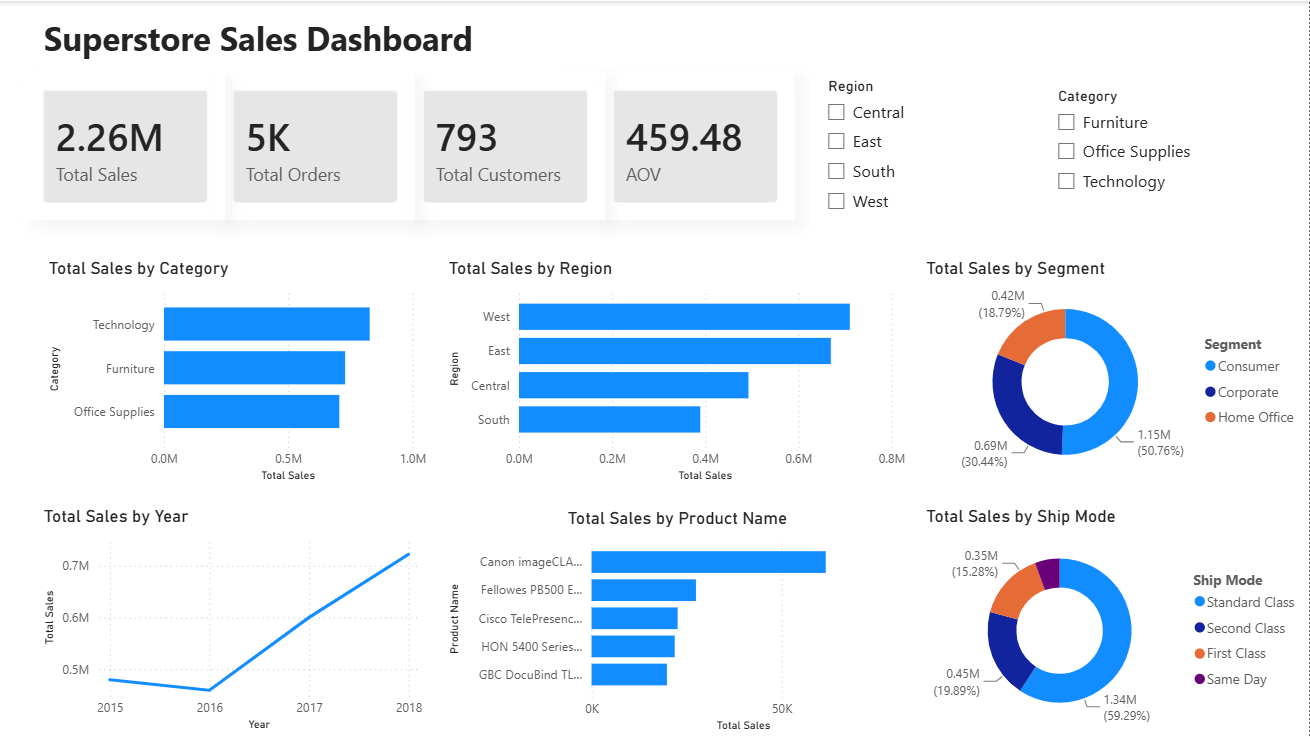

The page's visual inventory and layout, read from the dashboard file:
{"tool":"powerbi","page":{"name":"Page 1","canvas":[1280,720],"ordinal":0},"visuals":[{"type":"cardVisual","fields":{"Data":["train.Total Orders"]},"box":[210.2,69.7,196,145],"z":1000},{"type":"cardVisual","fields":{"Data":["train.Total Customers"]},"box":[395.8,69.7,196,145],"z":2000},{"type":"cardVisual","fields":{"Data":["train.AOV"]},"box":[581.5,69.7,196,145],"z":3000},{"type":"clusteredBarChart","fields":{"Category":["train.Category"],"Y":["train.Total Sales"]},"box":[43.4,250.2,380,225],"z":4000},{"type":"lineChart","fields":{"Category":["train.Order Date.Variation.Date Hierarchy.Year","train.Order Date.Variation.Date Hierarchy.Quarter","train.Order Date.Variation.Date Hierarchy.Month","train.Order Date.Variation.Date Hierarchy.Day"],"Y":["train.Total Sales"]},"box":[38.4,494,380,225],"z":5000},{"type":"clusteredBarChart","fields":{"Category":["train.Region"],"Y":["train.Total Sales"]},"box":[433.6,250.7,457.3,225],"z":6000},{"type":"clusteredBarChart","fields":{"Category":["train.Product Name"],"Y":["train.Total Sales"]},"box":[434.1,495.2,457.3,225],"z":7000},{"type":"donutChart","fields":{"Category":["train.Segment"],"Y":["train.Total Sales"]},"box":[901.2,250.7,379.1,225],"z":8000},{"type":"donutChart","fields":{"Category":["train.Ship Mode"],"Y":["train.Total Sales"]},"box":[900.9,494,379.1,225],"z":9000},{"type":"slicer","fields":{"Values":["train.Region"]},"box":[797.3,69.7,225,149.2],"z":10000},{"type":"slicer","fields":{"Values":["train.Category"]},"box":[1022.3,79.5,196.9,129.6],"z":11000},{"type":"cardVisual","fields":{"Data":["train.Total Sales"]},"box":[24.5,69.7,196,145],"z":12000},{"type":"textbox","box":[37.9,9.8,508.7,59.9],"z":13000}]}

Visuals, with their boxes in screenshot pixels (x1, y1, x2, y2), scaled from the page's 1280x720 canvas onto the 1310x737 screenshot:
cardVisual - train.Total Orders: rect(215, 71, 416, 220)
cardVisual - train.Total Customers: rect(405, 71, 606, 220)
cardVisual - train.AOV: rect(595, 71, 796, 220)
clusteredBarChart - train.Category x train.Total Sales: rect(44, 256, 433, 486)
lineChart - train.Order Date.Variation.Date Hierarchy.Year x train.Order Date.Variation.Date Hierarchy.Quarter: rect(39, 506, 428, 736)
clusteredBarChart - train.Region x train.Total Sales: rect(444, 257, 912, 487)
clusteredBarChart - train.Product Name x train.Total Sales: rect(444, 507, 912, 736)
donutChart - train.Segment x train.Total Sales: rect(922, 257, 1309, 487)
donutChart - train.Ship Mode x train.Total Sales: rect(922, 506, 1309, 736)
slicer - train.Region: rect(816, 71, 1046, 224)
slicer - train.Category: rect(1046, 81, 1248, 214)
cardVisual - train.Total Sales: rect(25, 71, 226, 220)
textbox: rect(39, 10, 559, 71)
